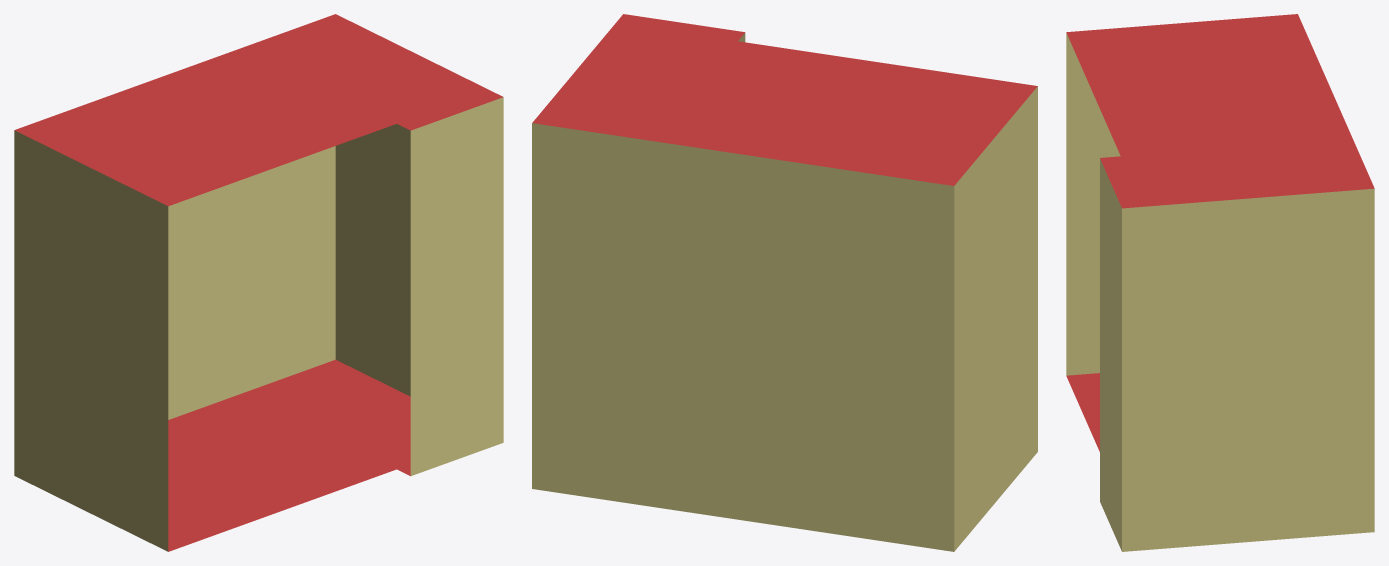
3 renders of one model, left to right at view 1: azimuth 30°, elevation 25°; view 2: azimuth 150°, elevation 25°; view 3: azimuth 270°, elevation 25°, orthographic. The views are drawn at different scales.
Bounding box in the file's own units: 6.51 × 4.36 × 5.36.
